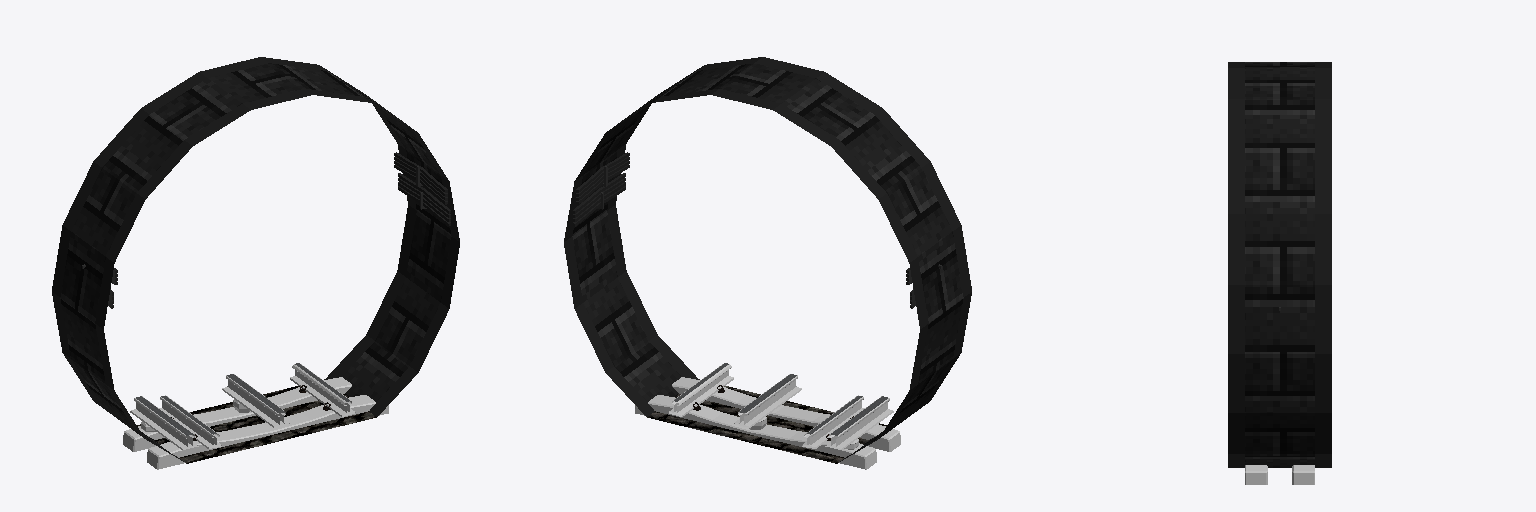
The picture shows the model from 3 angles: view 1: azimuth 30°, elevation 25°; view 2: azimuth 150°, elevation 25°; view 3: azimuth 270°, elevation 25°; orthographic projection.
Parts seen in each view (by area): view 1: Cylinder_Cylinder.002, Full_LOD0_LOD0.007, Full_LOD0_LOD0, Full_LOD0_LOD0.002, Full_LOD0_LOD0.003, Full_LOD0_LOD0.001, cube.002_cube.008, cube.003_cube.009; view 2: Cylinder_Cylinder.002, Full_LOD0_LOD0.002, Full_LOD0_LOD0, Full_LOD0_LOD0.007, Full_LOD0_LOD0.003, Full_LOD0_LOD0.001, cube.002_cube.008, cube.003_cube.009; view 3: Cylinder_Cylinder.002.
Boxes of the visible parts, box(x1,y1,x2,y2) form: Cylinder_Cylinder.002: box(52, 57, 459, 463); Full_LOD0_LOD0.007: box(147, 395, 388, 469); Full_LOD0_LOD0: box(159, 363, 355, 448); Full_LOD0_LOD0.002: box(123, 377, 351, 451); Full_LOD0_LOD0.003: box(130, 396, 198, 449); Full_LOD0_LOD0.001: box(222, 374, 289, 427); cube.002_cube.008: box(108, 173, 450, 308); cube.003_cube.009: box(112, 152, 447, 284); Cylinder_Cylinder.002: box(564, 57, 971, 463); Full_LOD0_LOD0.002: box(635, 395, 876, 469); Full_LOD0_LOD0: box(668, 363, 864, 448); Full_LOD0_LOD0.007: box(672, 377, 900, 451); Full_LOD0_LOD0.003: box(825, 396, 893, 449); Full_LOD0_LOD0.001: box(734, 374, 801, 427); cube.002_cube.008: box(573, 173, 915, 308); cube.003_cube.009: box(576, 152, 911, 284); Cylinder_Cylinder.002: box(1228, 62, 1331, 467).
Bounding box in the file's own units: 4.03 × 3.73 × 1.02.
Materials: 8 (5 with a texture image).